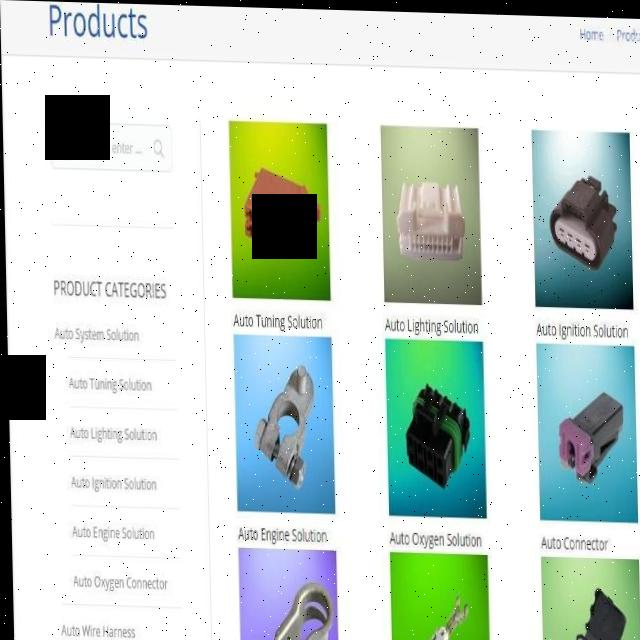connector: (381, 379, 482, 485), (536, 165, 631, 268), (538, 379, 632, 481), (229, 165, 320, 255)
